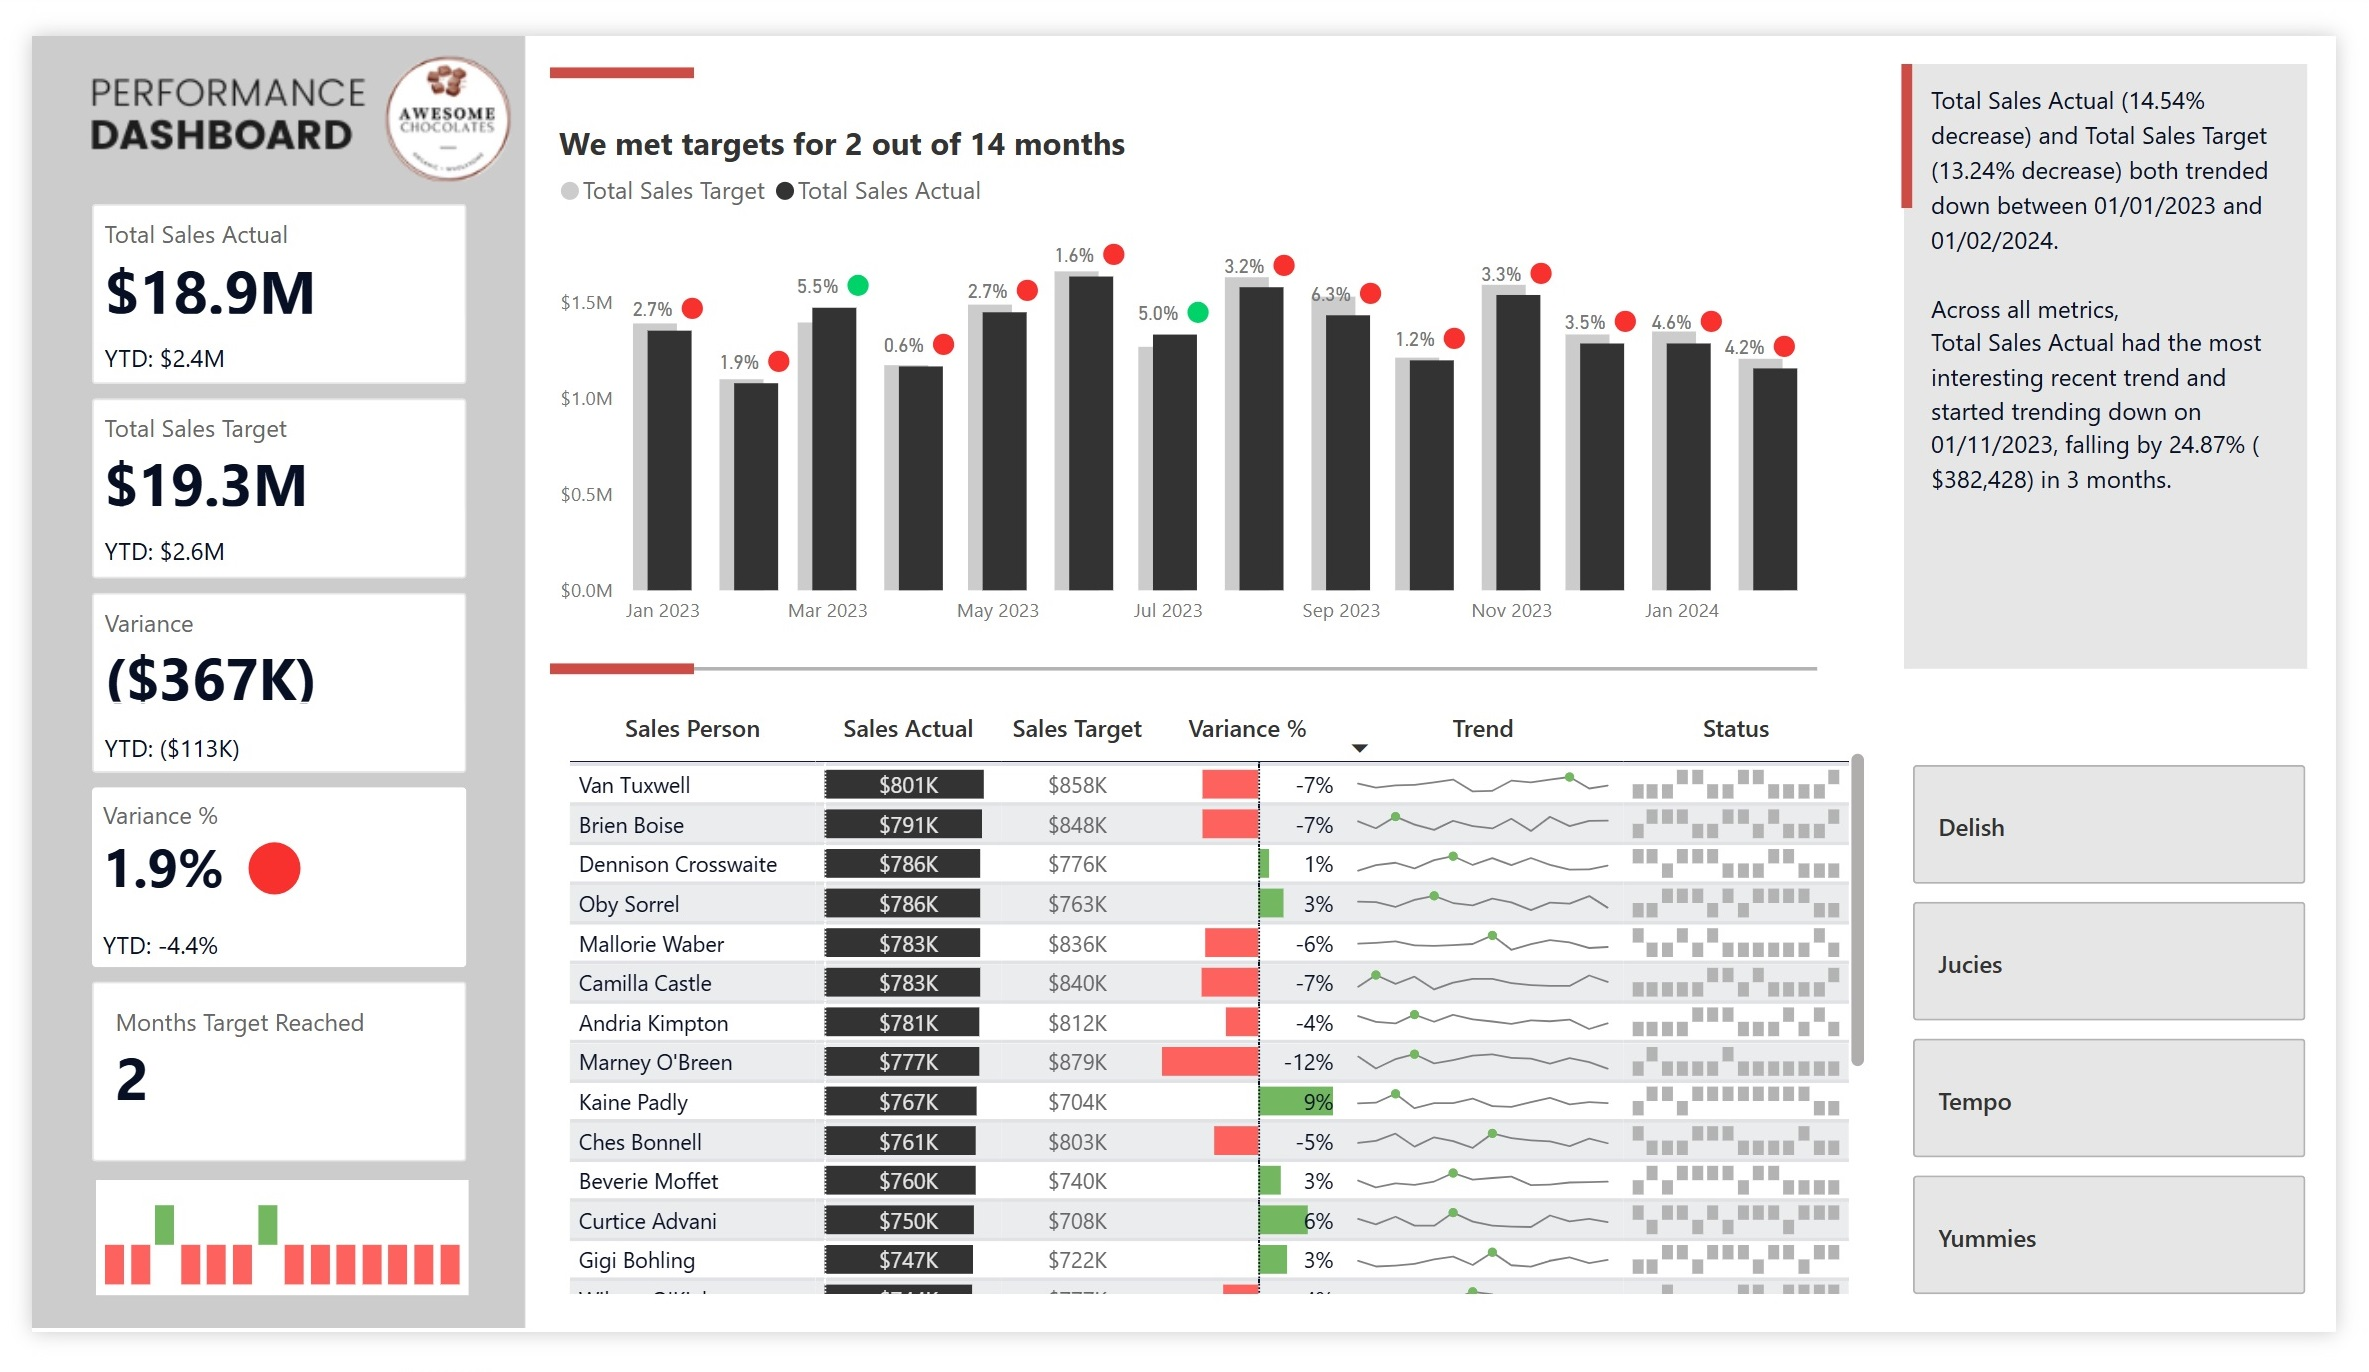

What the dashboard file says about the page in this screenshot:
{"tool":"powerbi","page":{"name":"Page 1","canvas":[1280,720],"ordinal":0},"visuals":[{"type":"cardVisual","fields":{"Data":["Measure Table.Total Sales Actual","Measure Table.Total Sales Target","Measure Table.Sales Variance","Measure Table.Variance Pct Laabel","Measure Table.Months Target Reached"]},"box":[33,93,208,534],"z":0},{"type":"clusteredColumnChart","fields":{"Category":["Calendar.Start of Month"],"Y":["Measure Table.Target Status"]},"box":[35,636,207,64],"z":1000},{"type":"clusteredColumnChart","fields":{"Category":["Calendar.Date"],"Y":["Measure Table.Total Sales Target","Measure Table.Total Sales Actual"]},"box":[288,48,704,288],"z":2000},{"type":"advancedSlicerVisual","fields":{"Values":["dimPeople.Team"]},"box":[1040,400,228,304],"z":3000},{"type":"tableEx","fields":{"Values":["dimPeople.Sales Person","Measure Table.Total Sales Actual","Measure Table.Total Sales Target","Measure Table.Sales Variance %","SparklineData(Measure Table.Total Sales Actual_[Calendar.End of Month])","SparklineData(Measure Table.Target Status_[Calendar.End of Month])"]},"box":[288,368,736,336],"z":4000},{"type":"textbox","box":[1040,16,224,336],"z":5000},{"type":"shape","box":[288,336,80,32],"z":7000},{"type":"shape","box":[1026,16,32,80],"z":8000},{"type":"shape","box":[368,336,624,32],"z":9000},{"type":"shape","box":[288,4,80,32],"z":10001}]}

Visuals, with their boxes in screenshot pixels (x1, y1, x2, y2), scaled from the page's 1280x720 canvas onto the 2369x1372 screenshot:
cardVisual - Measure Table.Total Sales Actual x Measure Table.Total Sales Target: l=61, t=177, r=446, b=1195
clusteredColumnChart - Calendar.Start of Month x Measure Table.Target Status: l=65, t=1212, r=448, b=1334
clusteredColumnChart - Calendar.Date x Measure Table.Total Sales Target: l=533, t=91, r=1836, b=640
advancedSlicerVisual - dimPeople.Team: l=1925, t=762, r=2347, b=1342
tableEx - dimPeople.Sales Person x Measure Table.Total Sales Actual: l=533, t=701, r=1895, b=1342
textbox: l=1925, t=30, r=2339, b=671
shape: l=533, t=640, r=681, b=701
shape: l=1899, t=30, r=1958, b=183
shape: l=681, t=640, r=1836, b=701
shape: l=533, t=8, r=681, b=69
